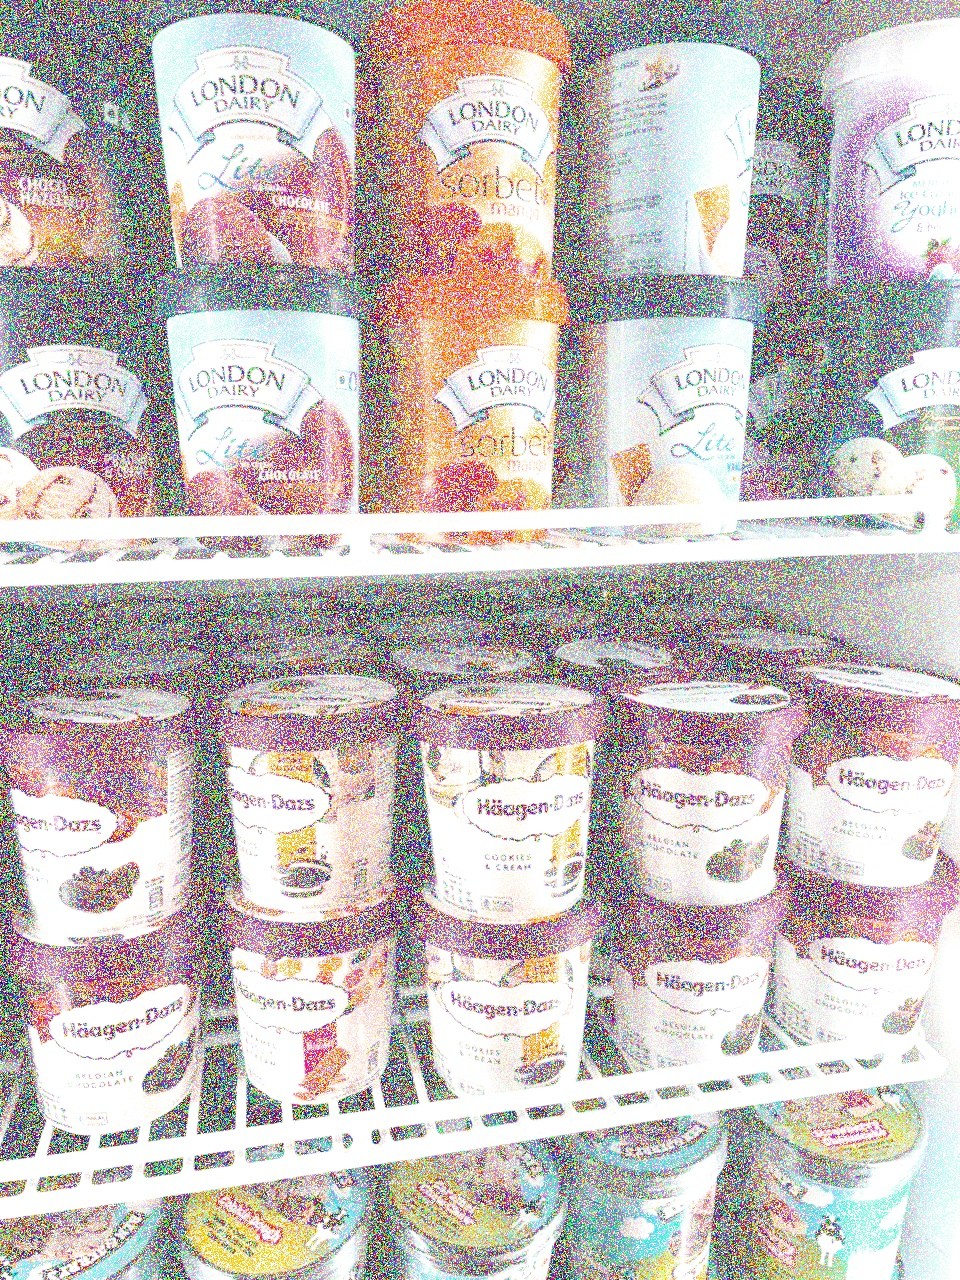Haagen-Dazs IceCream Tub: (595, 670, 806, 921), (187, 881, 407, 1118), (0, 685, 202, 939), (203, 670, 415, 906), (418, 672, 607, 925), (762, 846, 960, 1081), (0, 914, 205, 1141), (598, 856, 784, 1090), (402, 896, 597, 1112), (792, 651, 952, 887)
